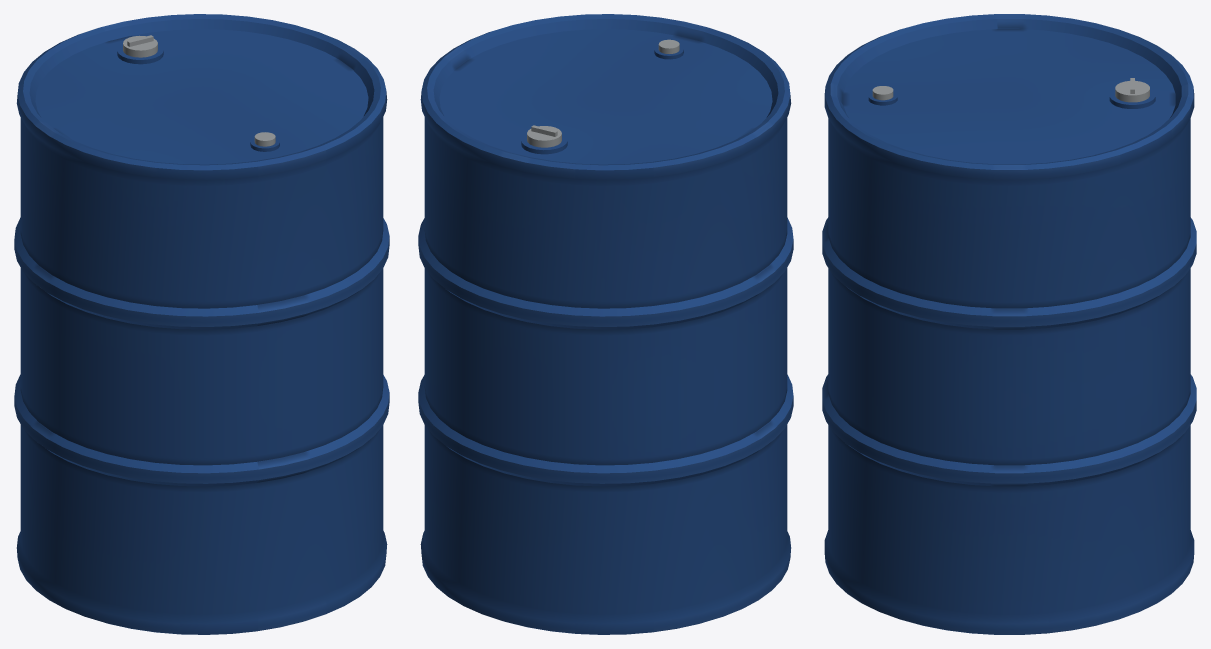
Rendered from body.obj.
The picture shows the model from 3 angles, left to right: view 1: azimuth 30°, elevation 25°; view 2: azimuth 150°, elevation 25°; view 3: azimuth 270°, elevation 25°; orthographic projection.
Visible parts, largest first — view 1: fuel_drum__body__shell, fuel_drum__body__bungs; view 2: fuel_drum__body__shell, fuel_drum__body__bungs; view 3: fuel_drum__body__shell, fuel_drum__body__bungs.
Part boxes in pixels (box(x1,y1,x2,y2)): fuel_drum__body__shell: box(14, 14, 389, 634); fuel_drum__body__bungs: box(123, 35, 275, 146); fuel_drum__body__shell: box(418, 14, 793, 634); fuel_drum__body__bungs: box(527, 39, 679, 147); fuel_drum__body__shell: box(822, 14, 1196, 634); fuel_drum__body__bungs: box(872, 78, 1149, 102).
Size of the model in its own units: 0.7222 by 1.01 by 0.7222.
